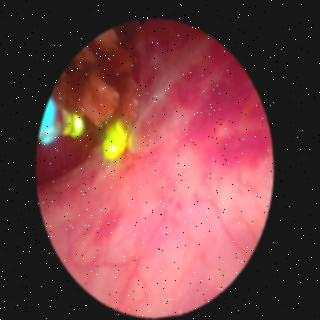fiber: (43, 100, 59, 143)
laser: (108, 124, 127, 157), (73, 116, 83, 135)
stone: (58, 30, 140, 126)
tissue: (41, 22, 271, 308)
